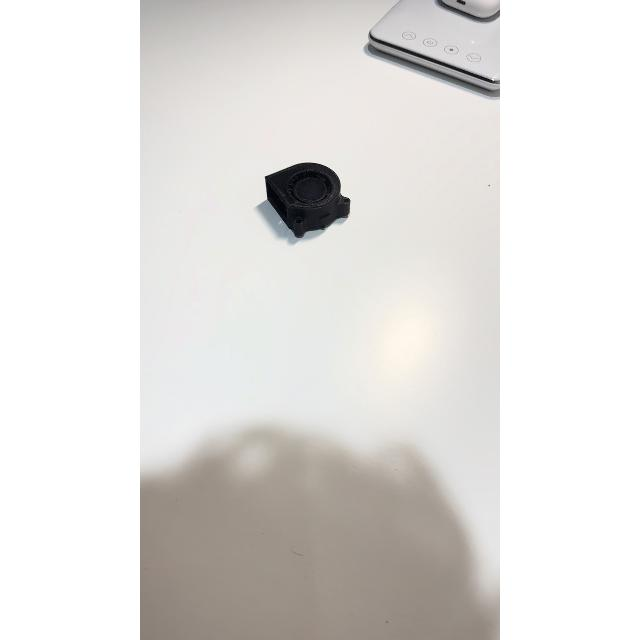Pieza_3: (255, 154, 368, 254)
